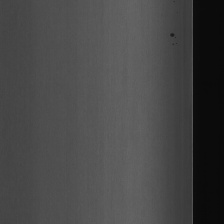oil_spot: (166, 28, 177, 46)
